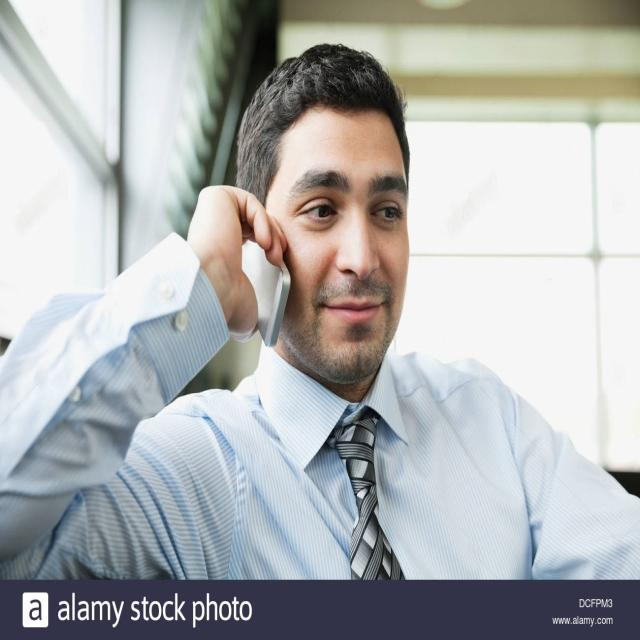phone: (232, 226, 291, 351)
